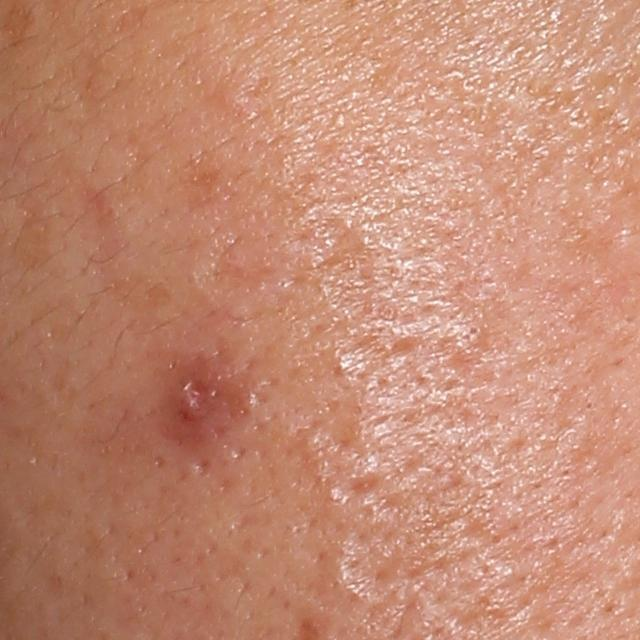atrophic_scar: (183, 229, 293, 320), (333, 508, 405, 602), (312, 398, 365, 460), (335, 470, 386, 505)
comedo: (466, 321, 487, 342)
